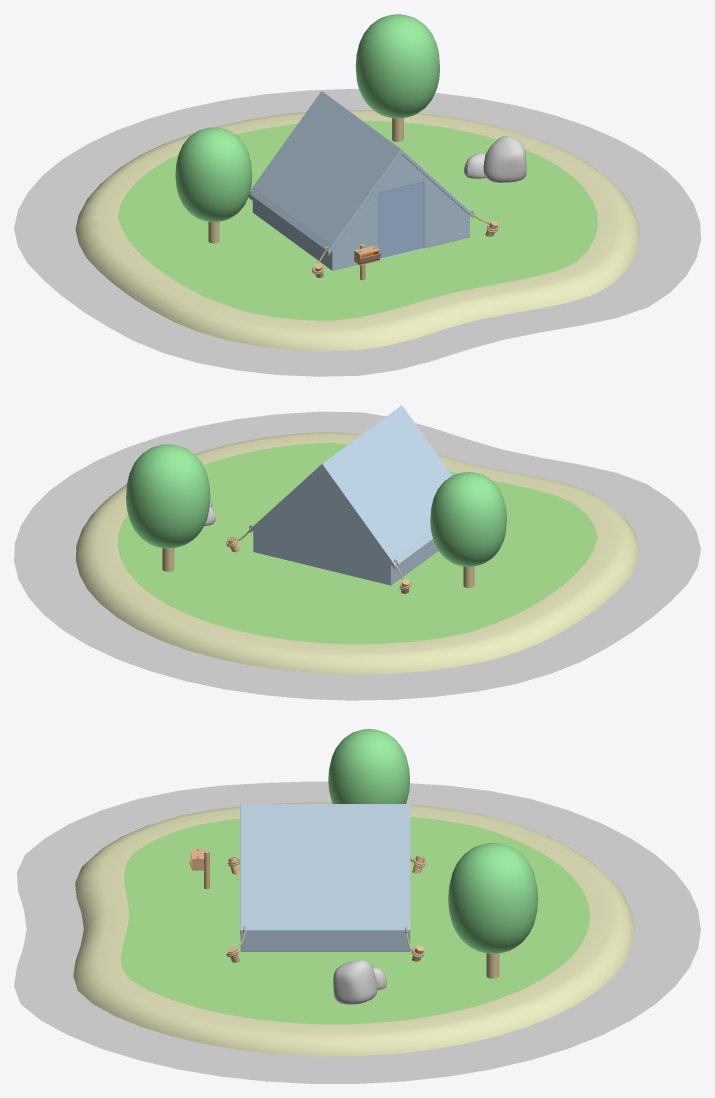
The model's file is Island.glb.
3 renders of one model, top to bottom at view 1: azimuth 30°, elevation 25°; view 2: azimuth 150°, elevation 25°; view 3: azimuth 270°, elevation 25°, orthographic. The views are drawn at different scales.
Parts seen in each view (by area): view 1: Land, OuterSea, Tent, Tree, Rock; view 2: Land, OuterSea, Tent, Tree; view 3: Land, OuterSea, Tent, Tree, Rock, Mail.
Boxes of the visible parts, bbox=[...] form: Land: bbox=[75, 110, 639, 351]; OuterSea: bbox=[14, 89, 700, 376]; Tent: bbox=[248, 91, 473, 270]; Tree: bbox=[175, 14, 439, 243]; Rock: bbox=[464, 136, 526, 182]; Land: bbox=[75, 432, 639, 674]; OuterSea: bbox=[14, 411, 700, 700]; Tent: bbox=[250, 405, 452, 585]; Tree: bbox=[126, 444, 506, 587]; Land: bbox=[73, 802, 634, 1056]; OuterSea: bbox=[14, 781, 700, 1083]; Tent: bbox=[240, 804, 410, 951]; Tree: bbox=[328, 729, 538, 978]; Rock: bbox=[333, 960, 386, 1004]; Mail: bbox=[189, 848, 209, 889].
Size of the model in its own units: 4.22 by 0.9643 by 4.05.
